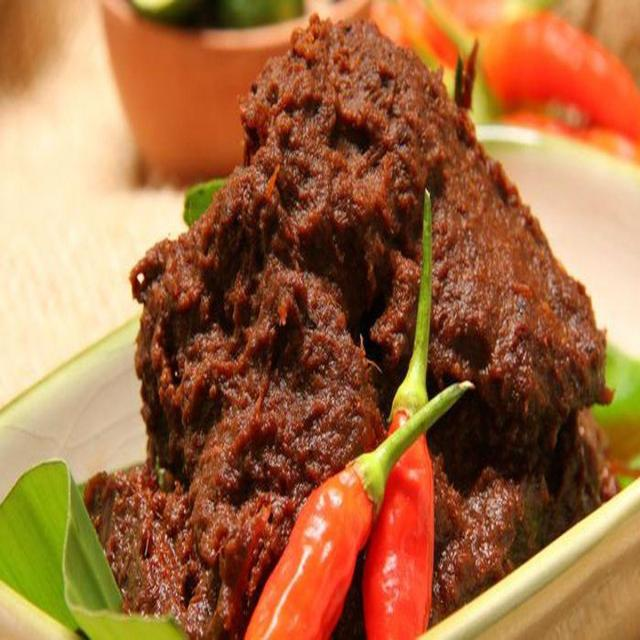Rendang: (76, 15, 638, 610)
